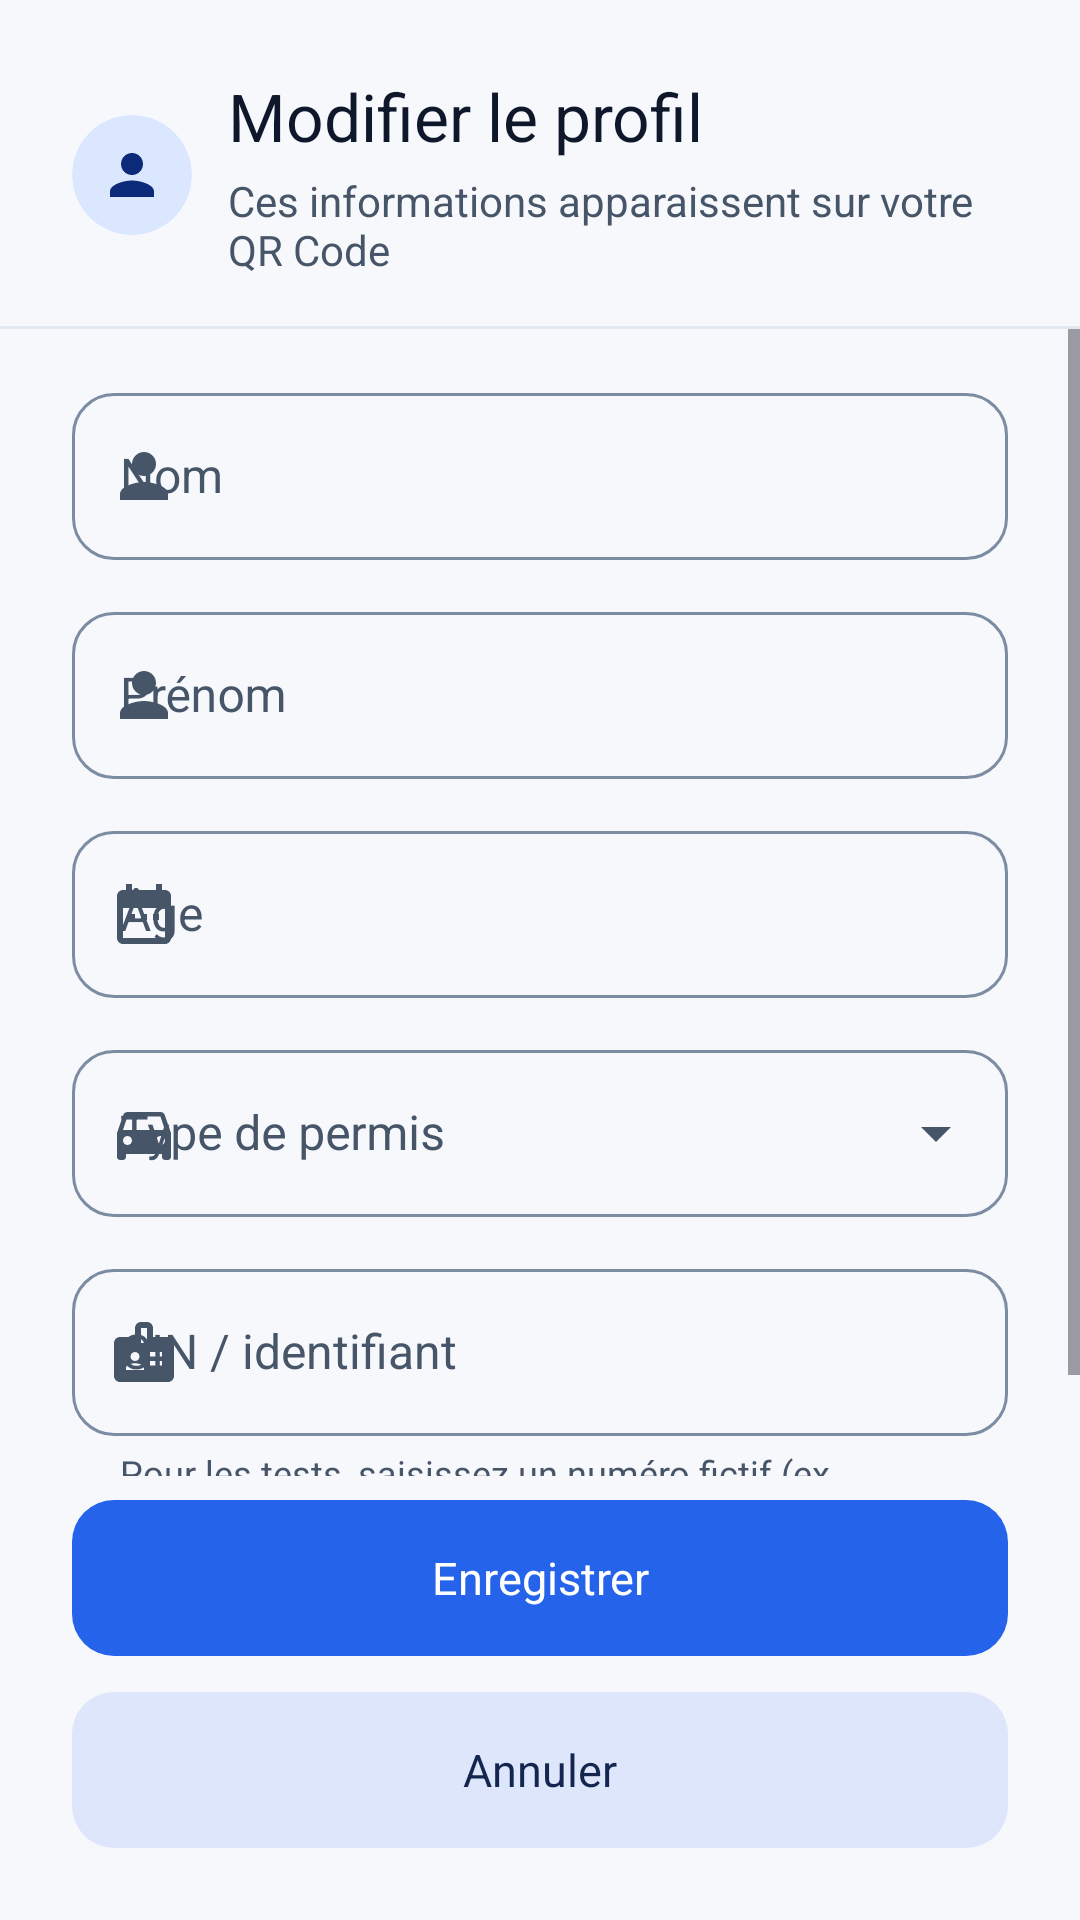

Named icons in this screenshot (1080*1920) and their bounding boxes, (x1, y1, x2, y2):
profile person: (110, 153, 154, 197)
